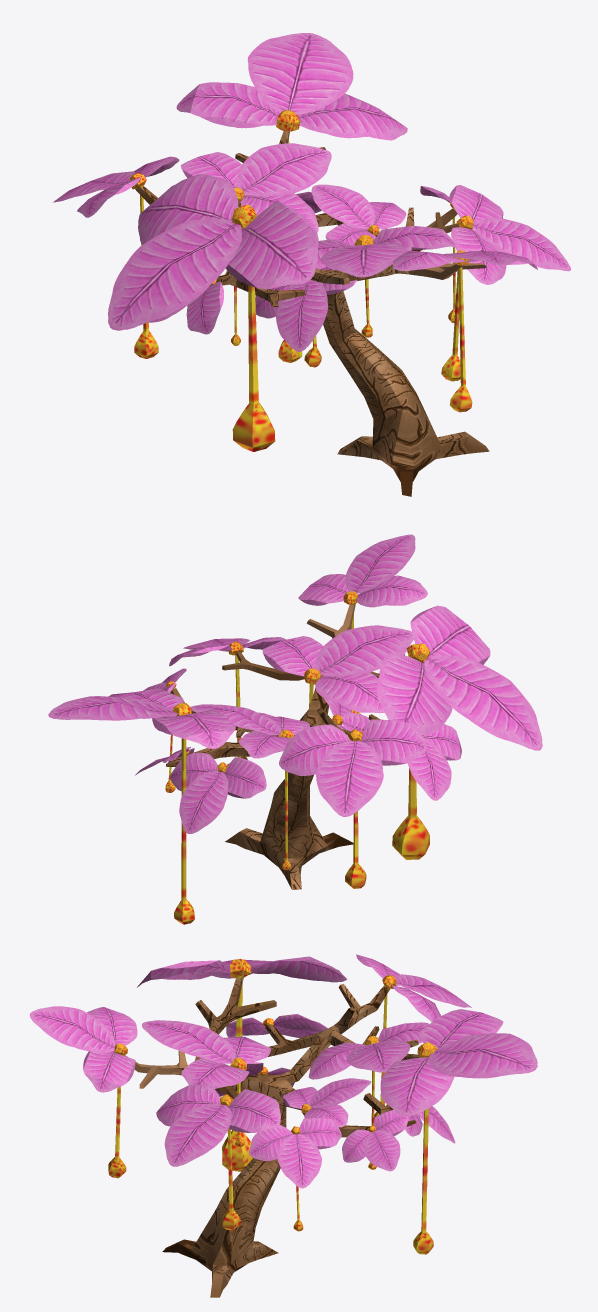
File: PinkTree.fbx
3 views of the same model, one above another, from view 1: azimuth 30°, elevation 25°; view 2: azimuth 150°, elevation 25°; view 3: azimuth 270°, elevation 25° (orthographic). The views are drawn at different scales.
Parts seen in each view (by area): view 1: Cube; view 2: Cube; view 3: Cube.
Boxes of the visible parts, x1=… form: Cube: x1=52, y1=33, x2=570, y2=496; Cube: x1=48, y1=534, x2=542, y2=924; Cube: x1=29, y1=954, x2=537, y2=1297.
Bounding box in the file's own units: 839 × 514 × 1051.
